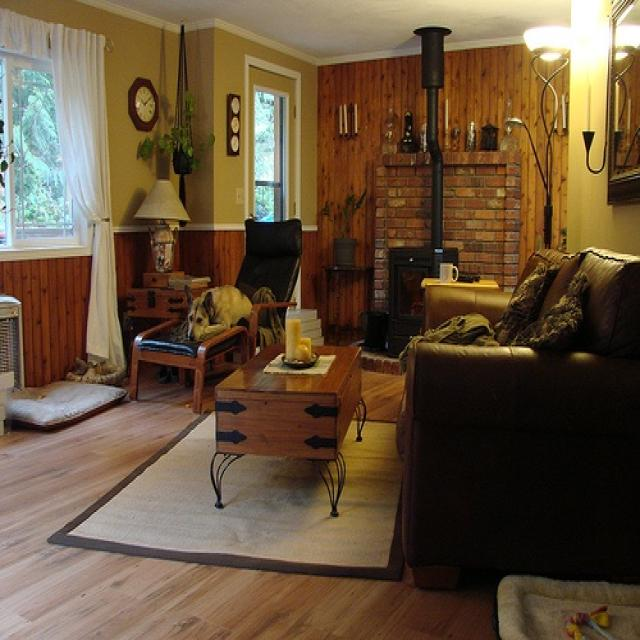chair: (233, 217, 303, 362)
dog: (179, 276, 252, 340)
pottedplant: (134, 89, 215, 174), (319, 181, 371, 268)
sofa: (404, 244, 638, 591)
